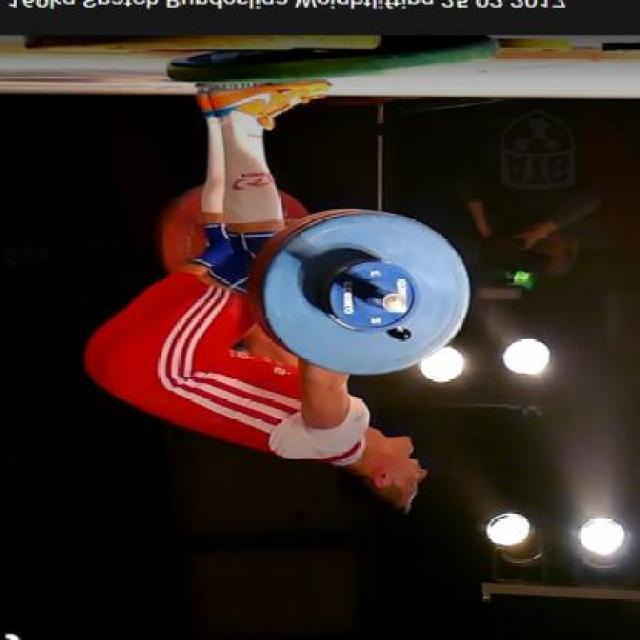Barbell: (376, 290, 409, 316)
